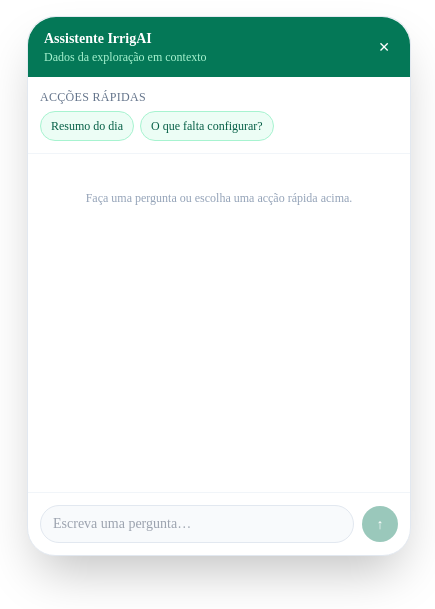
Test: ChatPanel › reuses retry identity only for unchanged text (changed: false)
Type "primeira" into the field with placeholder "Escreva uma pergunta…" at (197, 524), box left=40, top=505, right=354, bottom=543
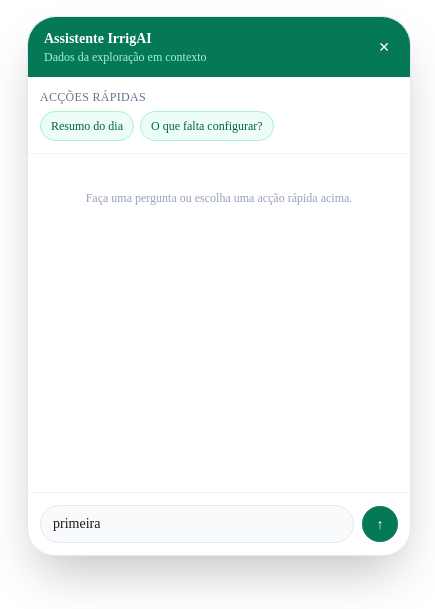
Click the button named "Enviar" at (380, 524), box left=362, top=506, right=398, bottom=542
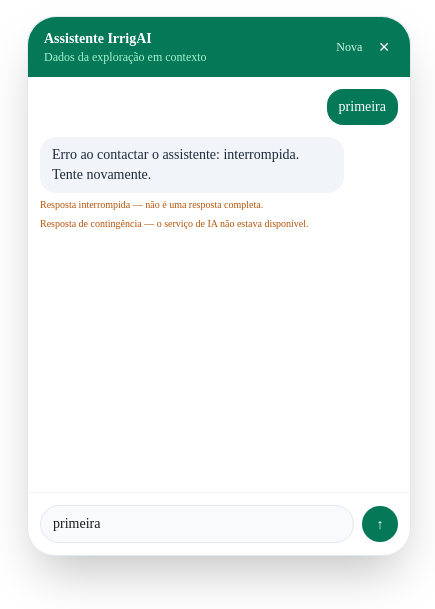
Expected: the text "Erro ao contactar" is shown, left=52, top=147, right=302, bottom=182
Click the button named "Enviar" at (380, 524), box left=362, top=506, right=398, bottom=542
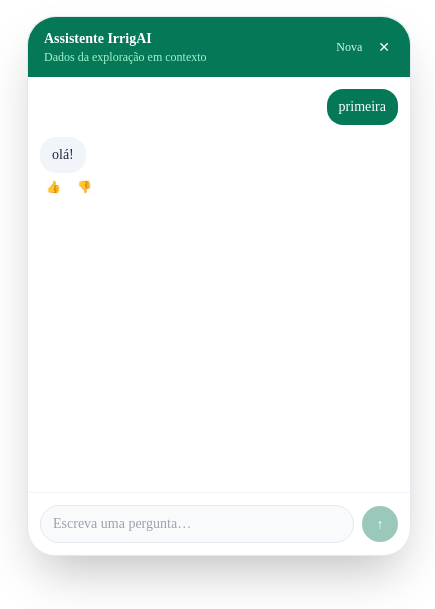
Expected: the text "primeira" is shown once, left=327, top=89, right=398, bottom=125
Expected: the text "olá!" is shown, left=40, top=137, right=86, bottom=173
